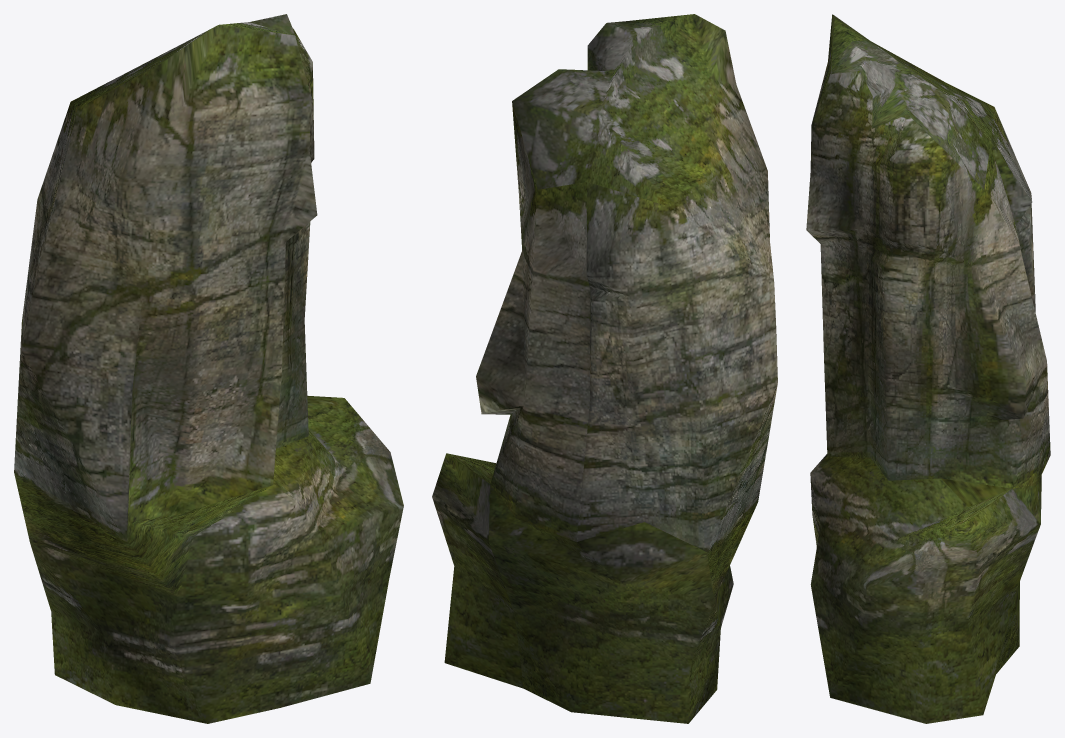
File: Maincity03_Stone_xinshanshi07_LOD2.FBX
3 renders of one model, left to right at view 1: azimuth 30°, elevation 25°; view 2: azimuth 150°, elevation 25°; view 3: azimuth 270°, elevation 25°, orthographic. The views are drawn at different scales.
Parts seen in each view (by area): view 1: hyc_xinshanshi07_LOD2; view 2: hyc_xinshanshi07_LOD2; view 3: hyc_xinshanshi07_LOD2.
Part boxes in pixels (x1,y1,x2,y2): hyc_xinshanshi07_LOD2: (14,14,403,723); hyc_xinshanshi07_LOD2: (432,14,777,723); hyc_xinshanshi07_LOD2: (806,14,1050,723).
Size of the model in its own units: 1792 by 3257 by 1172.
